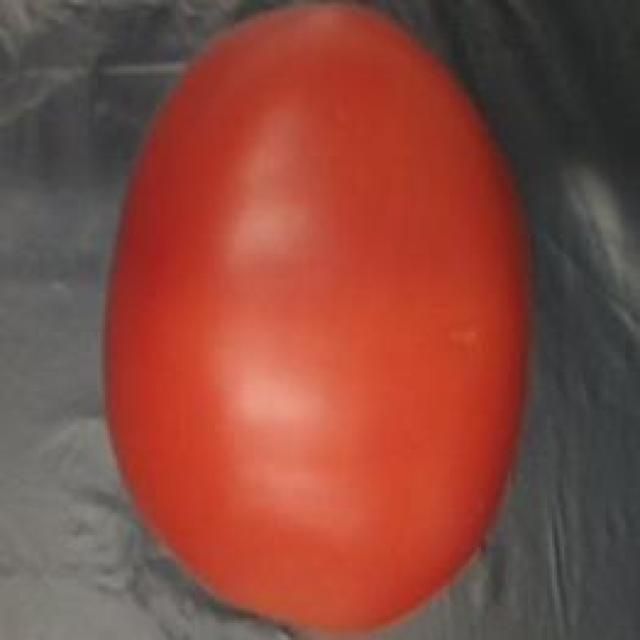ripe tomato: (95, 2, 552, 640)
